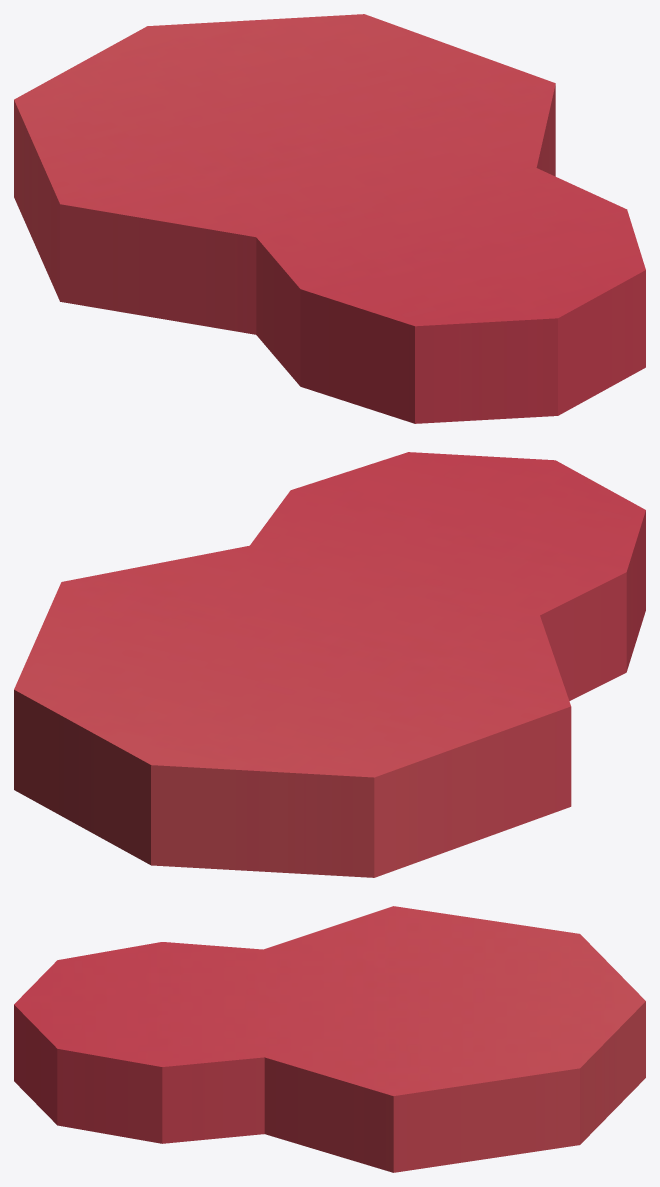
Rendered from SM_Shape_Cloud__01.fbx.
3 renders of one model, top to bottom at view 1: azimuth 30°, elevation 25°; view 2: azimuth 150°, elevation 25°; view 3: azimuth 270°, elevation 25°, orthographic. The views are drawn at different scales.
Parts seen in each view (by area): view 1: SM_Shape_Cloud__01; view 2: SM_Shape_Cloud__01; view 3: SM_Shape_Cloud__01.
Boxes of the visible parts, left/top/right/bottom form: SM_Shape_Cloud__01: left=14, top=14, right=645, bottom=423; SM_Shape_Cloud__01: left=14, top=452, right=645, bottom=877; SM_Shape_Cloud__01: left=14, top=906, right=645, bottom=1172.
Size of the model in its own units: 7.13 by 1.34 by 10.02.
